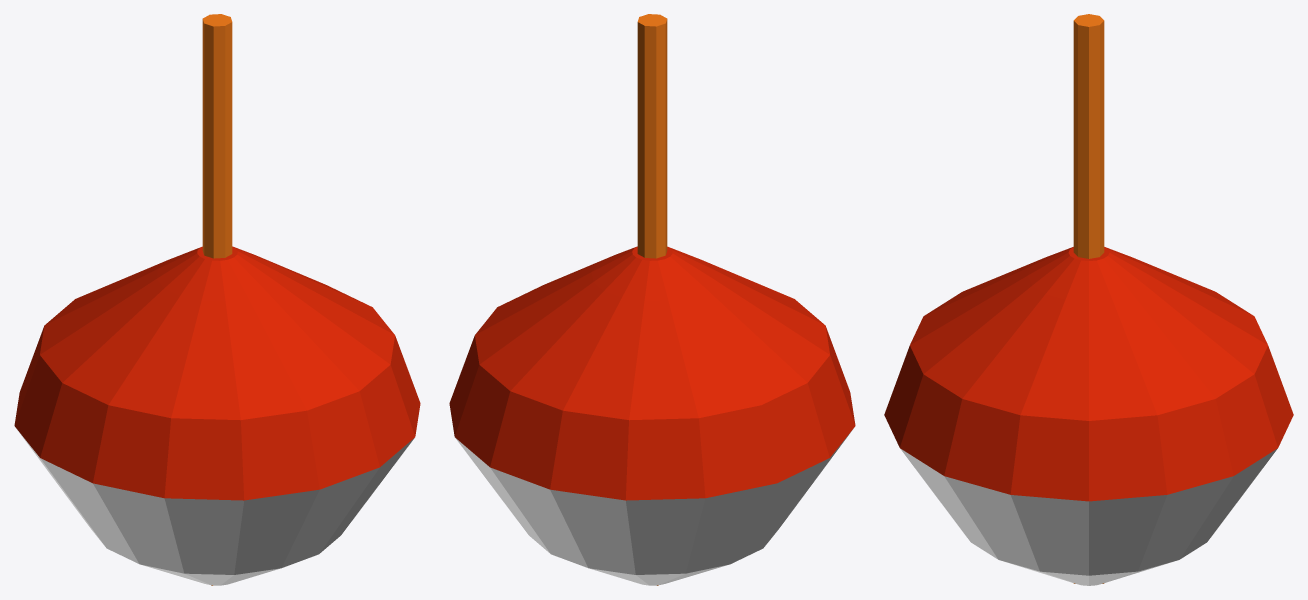
The model's file is Prop_WZ_FishingFloat_Rest.glb.
The picture shows the model from 3 angles, left to right: view 1: azimuth 30°, elevation 25°; view 2: azimuth 150°, elevation 25°; view 3: azimuth 270°, elevation 25°; orthographic projection.
Visible parts, largest first — view 1: Prop_WZ_FishingFloat_Rest; view 2: Prop_WZ_FishingFloat_Rest; view 3: Prop_WZ_FishingFloat_Rest.
Part boxes in pixels (<box>): Prop_WZ_FishingFloat_Rest: <box>14,14,420,585</box>; Prop_WZ_FishingFloat_Rest: <box>449,14,855,585</box>; Prop_WZ_FishingFloat_Rest: <box>884,14,1293,585</box>.
Size of what is drawn, in the model's own units: 0.08 by 0.12 by 0.08.
